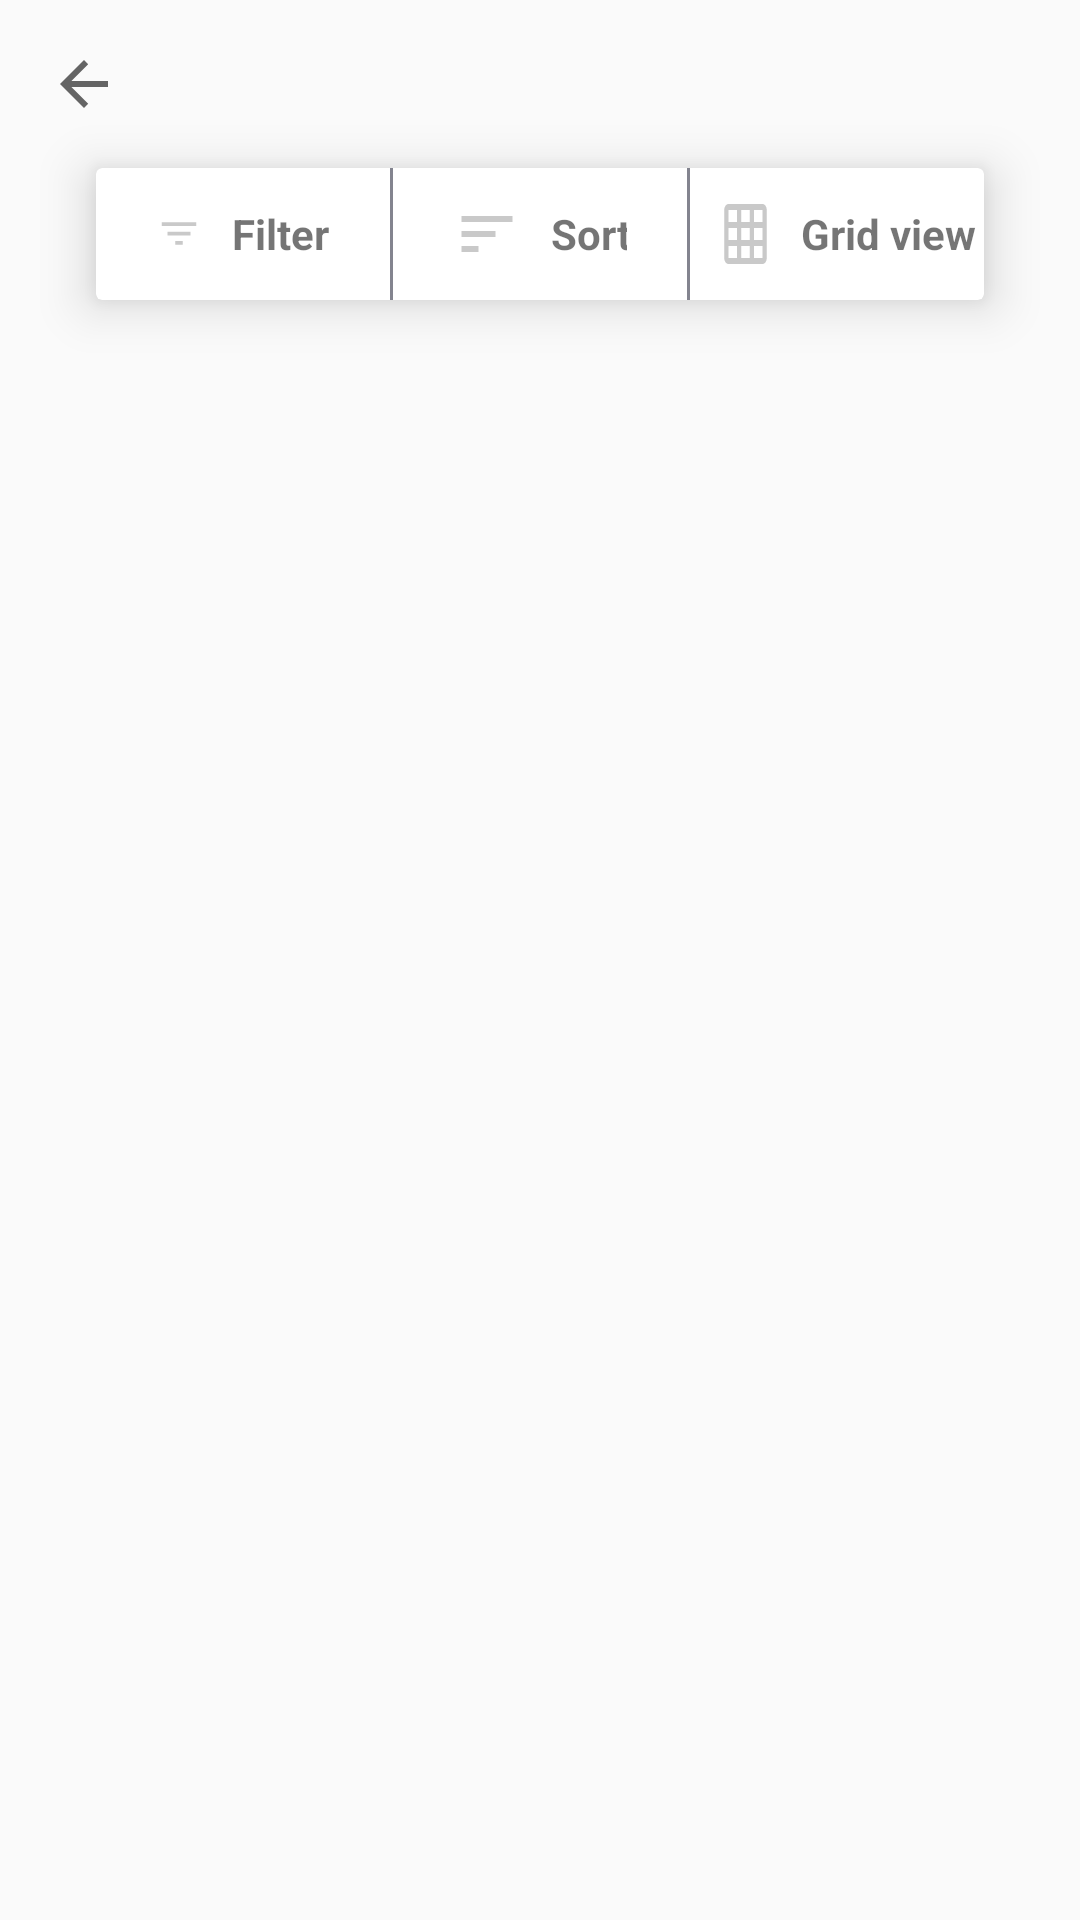

Where to tap for icons on this 1080w x 1920h app screen, as [x,y]:
grid on: [745,234]
